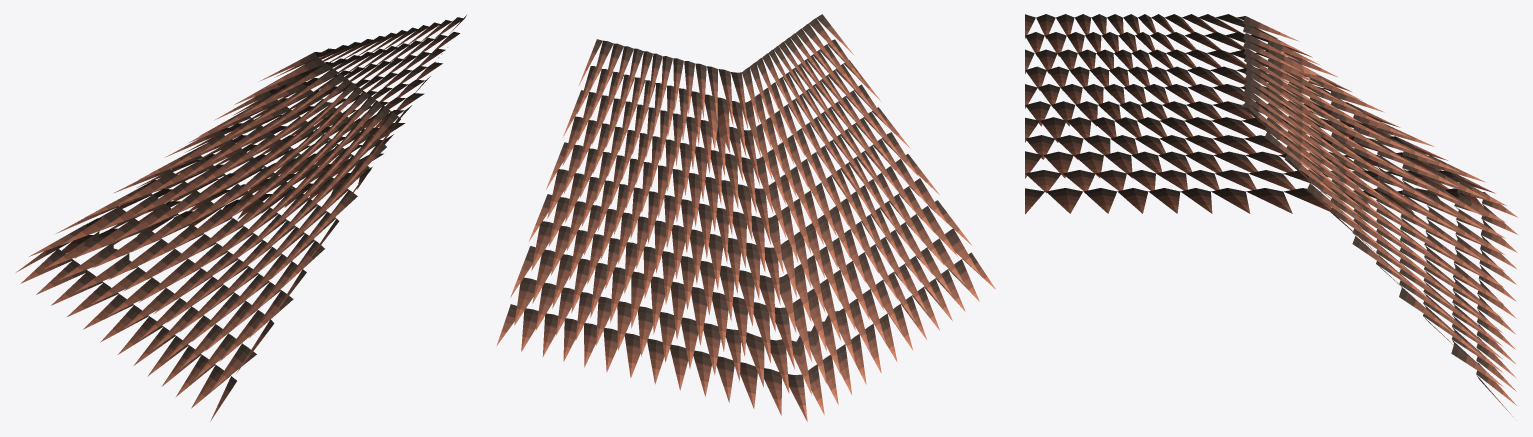
The model's file is Square_Roof_Corner_LOD0.fbx.
3 views of the same model, side by side, from view 1: azimuth 30°, elevation 25°; view 2: azimuth 150°, elevation 25°; view 3: azimuth 270°, elevation 25° (orthographic). The views are drawn at different scales.
Visible parts, largest first — view 1: polySurface5477; view 2: polySurface5477; view 3: polySurface5477.
Part boxes in pixels (box(x1,y1,x2,y2)): polySurface5477: box(16, 15, 466, 421); polySurface5477: box(496, 14, 995, 421); polySurface5477: box(1025, 14, 1518, 420).
Bounding box in the file's own units: 463 × 327 × 463.
